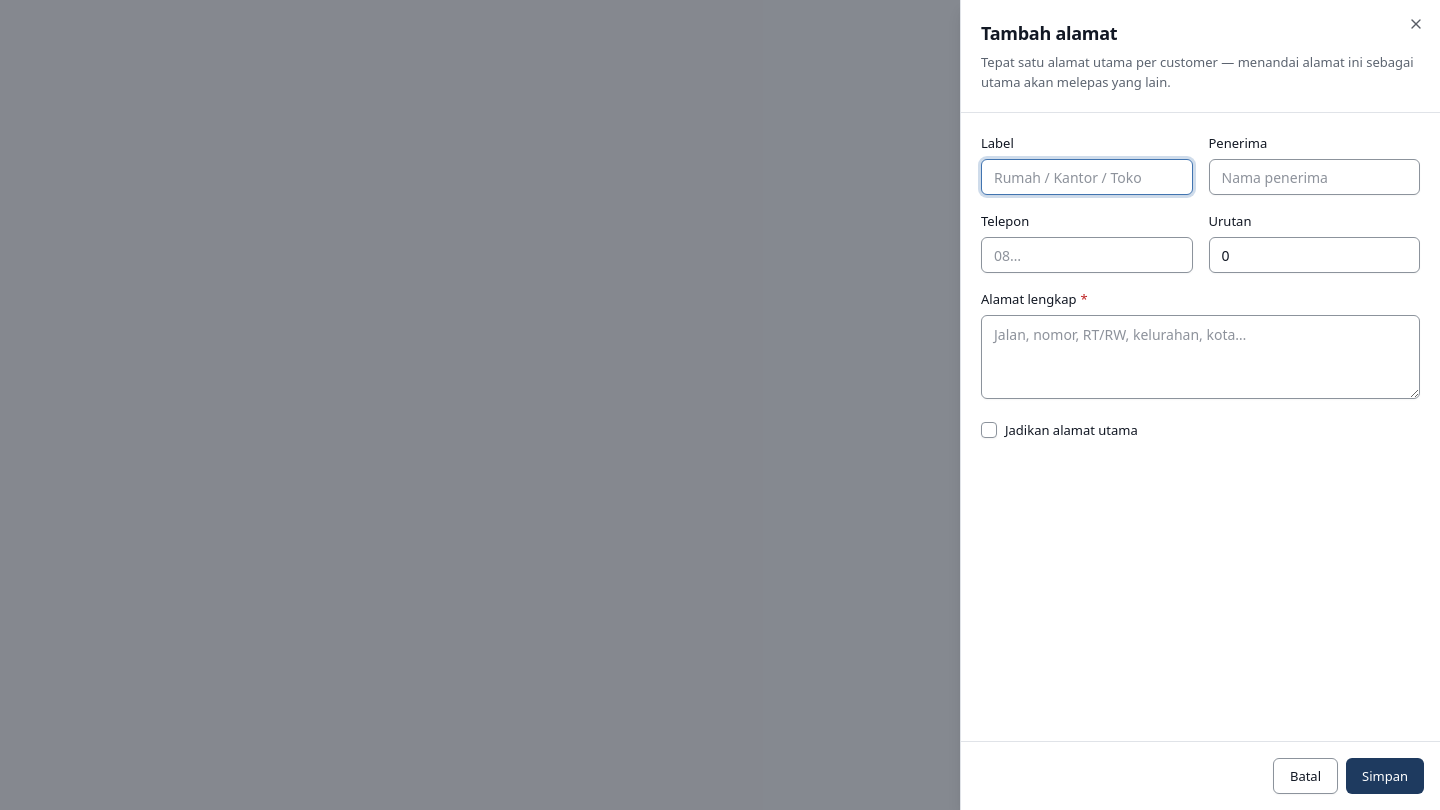
Scenario: AddressFormModal (pemilih/buku alamat) › tambah: judul Tambah alamat; alamat lengkap wajib dan tidak dikirim bila kosong
This screenshot has width=1440, height=810.
Check: the heading "Tambah alamat" is shown, box x1=981 y1=20 x2=1117 y2=46
In the field labelled "Label": (1087, 177) x1=981 y1=159 x2=1192 y2=195, type "Rumah"
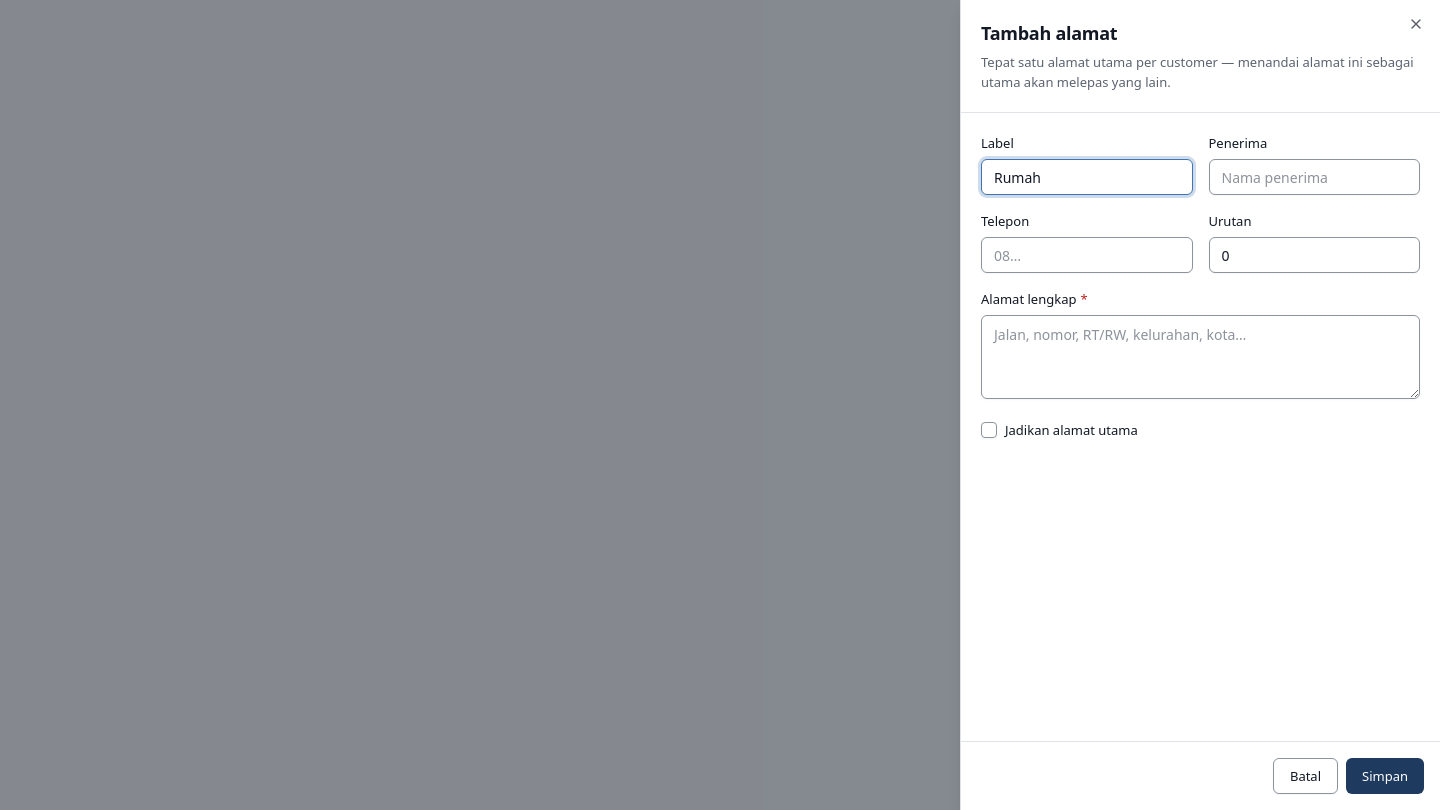
Click the button "Simpan": (1385, 776) x1=1346 y1=758 x2=1424 y2=794
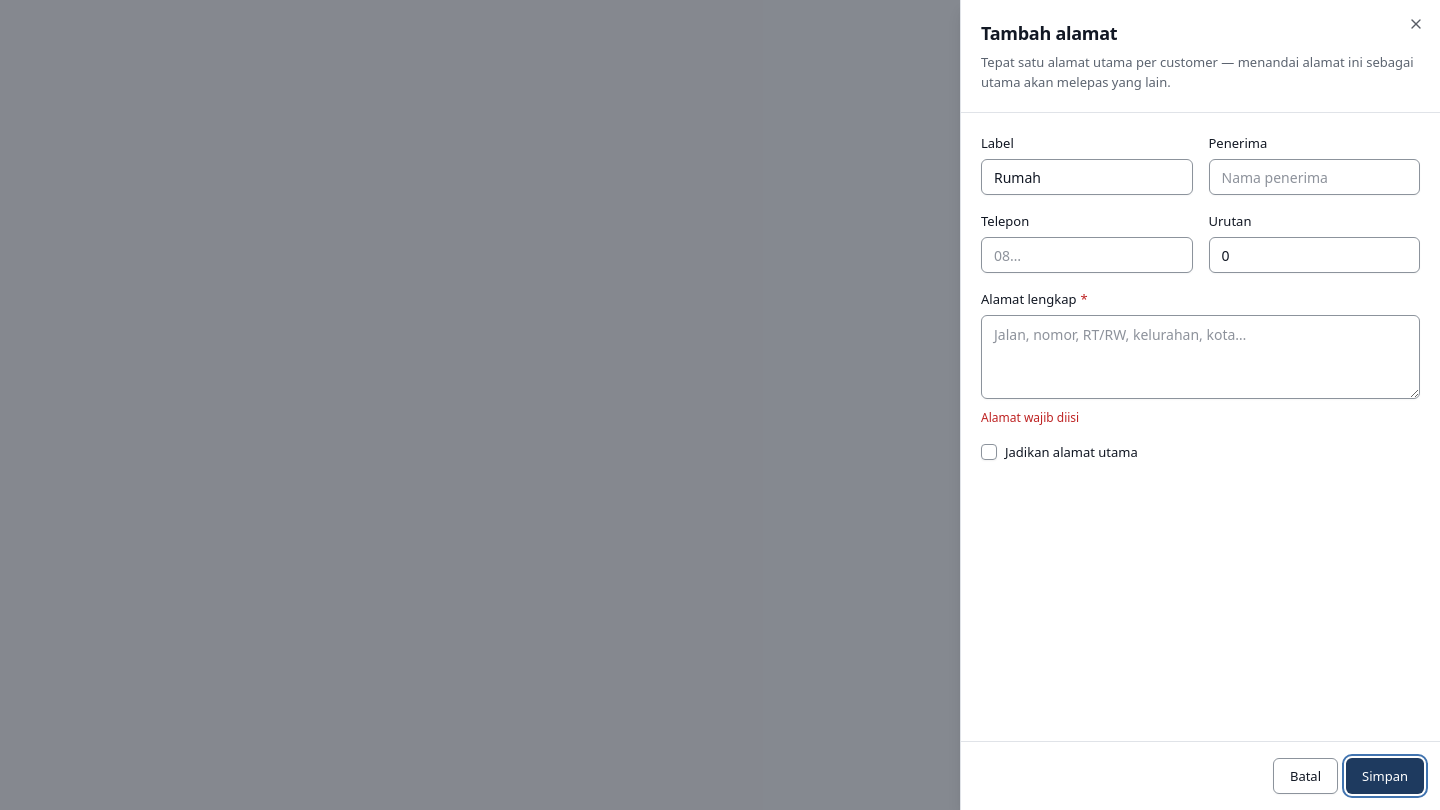
Check: the text "Alamat wajib diisi" is shown, box x1=981 y1=409 x2=1079 y2=426
